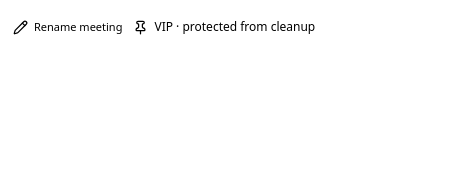
renames an active meeting without changing its time or transcript and keeps VIP on stale save failure
The image size is (474, 172).
Click the button "Rename meeting" at (68, 27), box [12,15,123,39]
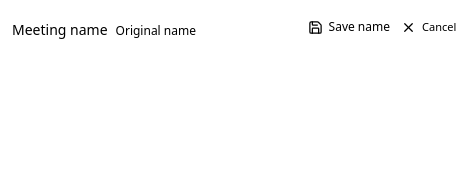
Replace the text in the field labelled "Meeting name" with "Renamed live meeting" at (203, 30), box [108,16,298,46]
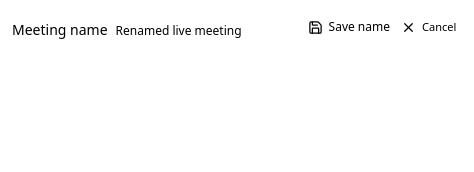
Click the button "Save name" at (349, 27), box [298,12,400,42]
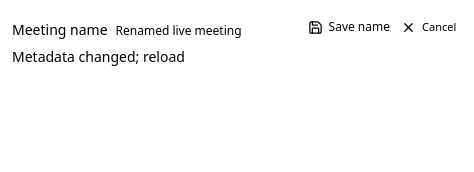
Expected: the button "VIP" is not shown
Now the message "Metadata changed; reload" is shown, box [12,46,185,66]
Click the button "Cancel" at (429, 27), box [400,15,457,39]
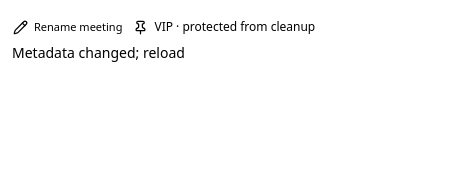
Now the button "VIP · protected from cleanup" is pressed, box [123,12,325,42]
